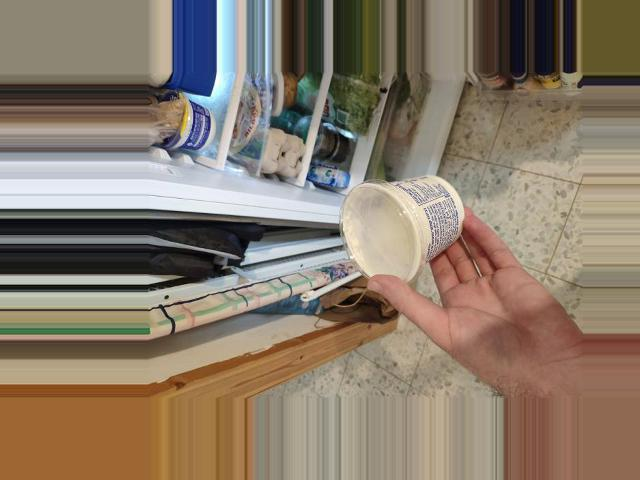cotage: (341, 184, 463, 279)
